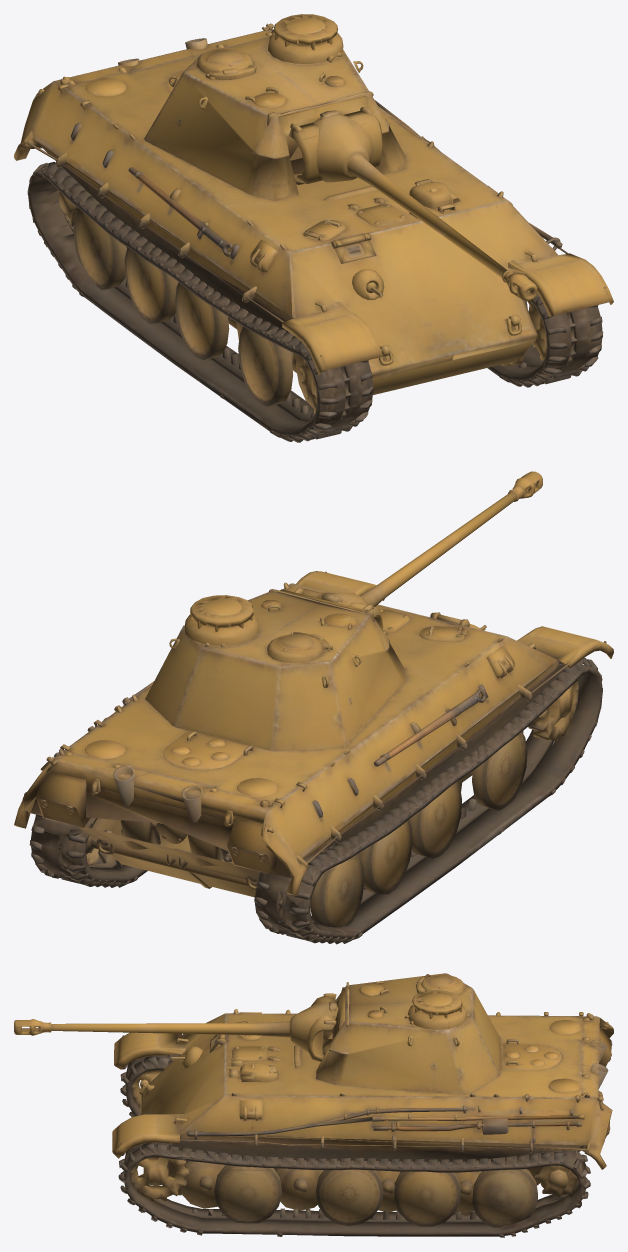
File: tank.glb
3 renders of one model, top to bottom at view 1: azimuth 30°, elevation 25°; view 2: azimuth 150°, elevation 25°; view 3: azimuth 270°, elevation 25°, orthographic. The views are drawn at different scales.
Parts seen in each view (by area): view 1: Hull, Turret, Gun; view 2: Hull, Turret, Gun; view 3: Hull, Turret, Gun.
Part boxes in pixels (x1,y1,x2,y2): Hull: (14, 23, 613, 442); Turret: (144, 14, 405, 200); Gun: (341, 148, 537, 301); Hull: (14, 571, 613, 944); Turret: (145, 587, 406, 750); Gun: (359, 471, 542, 606); Hull: (112, 1009, 613, 1237); Turret: (292, 973, 500, 1094); Gun: (14, 1017, 292, 1041).
Bounding box in the file's own units: 0.4399 × 0.3765 × 0.9995.
1 material, 1 textured.
